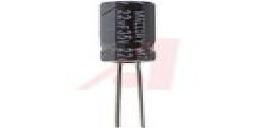Electrolytic-capacitor: (97, 1, 159, 128)
